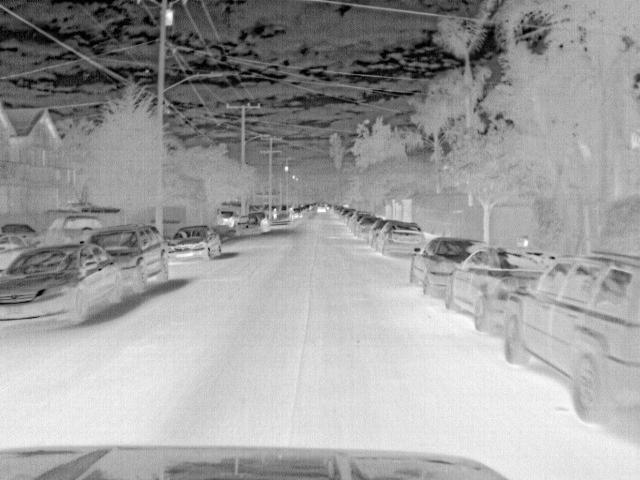car: (499, 252, 639, 429), (1, 240, 128, 335), (448, 246, 552, 332), (85, 225, 169, 291), (406, 237, 481, 300), (166, 224, 220, 264), (377, 220, 429, 257), (44, 214, 103, 246), (0, 221, 37, 247), (233, 215, 264, 239), (348, 210, 376, 232), (367, 220, 390, 246), (355, 218, 378, 240), (249, 211, 270, 233), (216, 209, 239, 228), (315, 202, 327, 214)
person: (270, 206, 279, 222), (287, 205, 294, 224)
